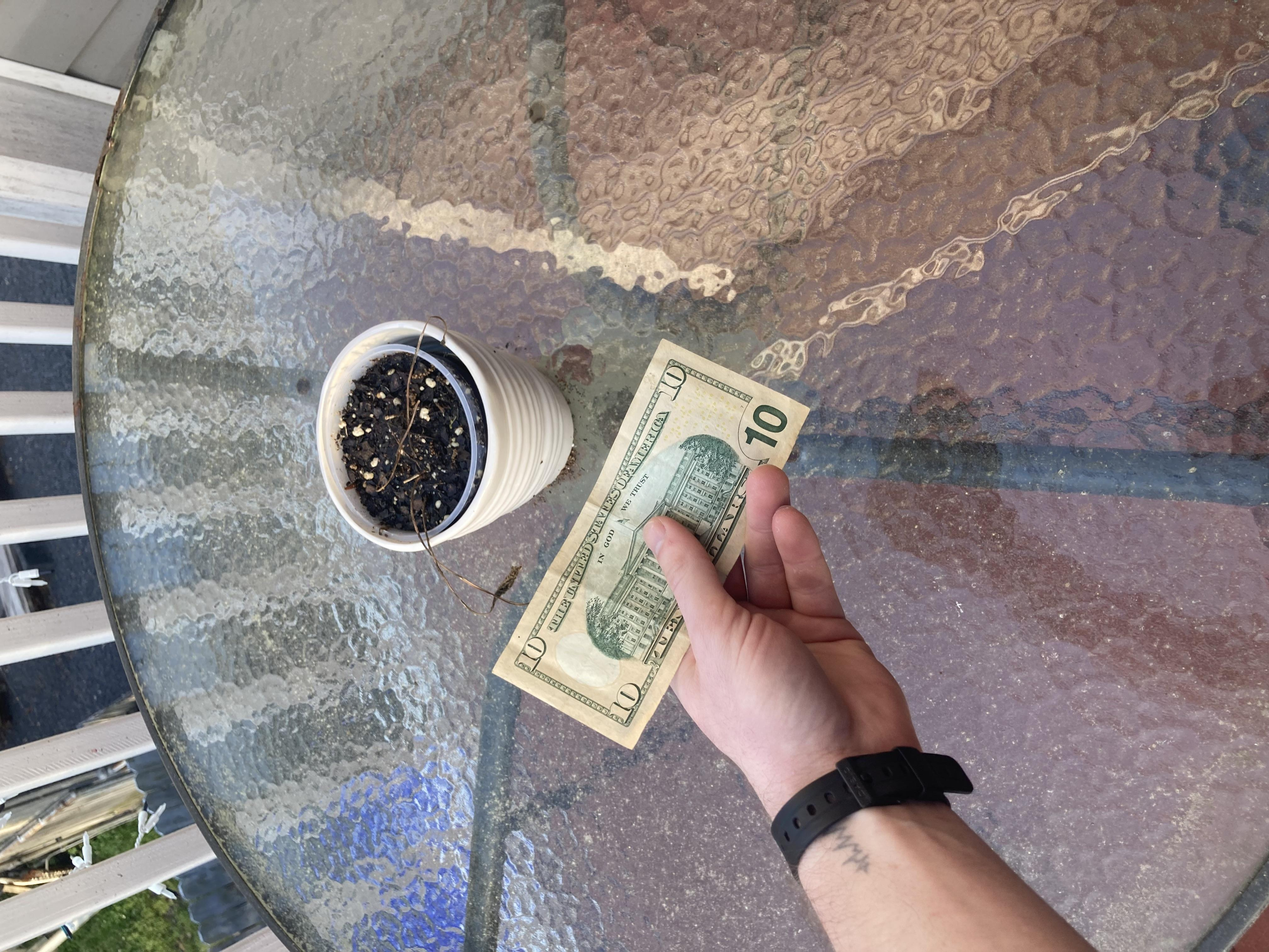ten-back: (269, 370, 819, 609)
